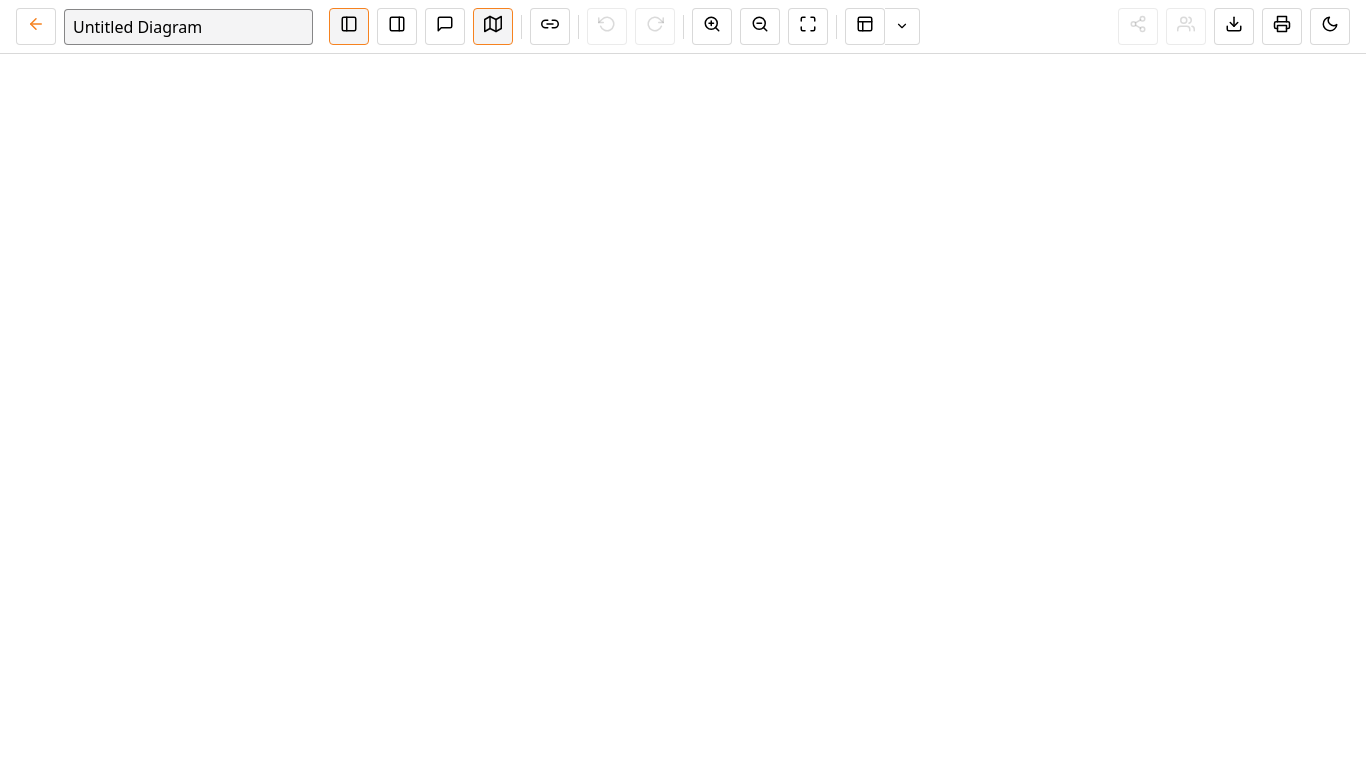
Toolbar › closes the connect nodes dialog via its Cancel control (Bug 8)
The width and height of the screenshot is (1366, 768).
Click the button titled "Connect nodes".
click(550, 26)  # box top-left (530, 8), bottom-right (570, 45)
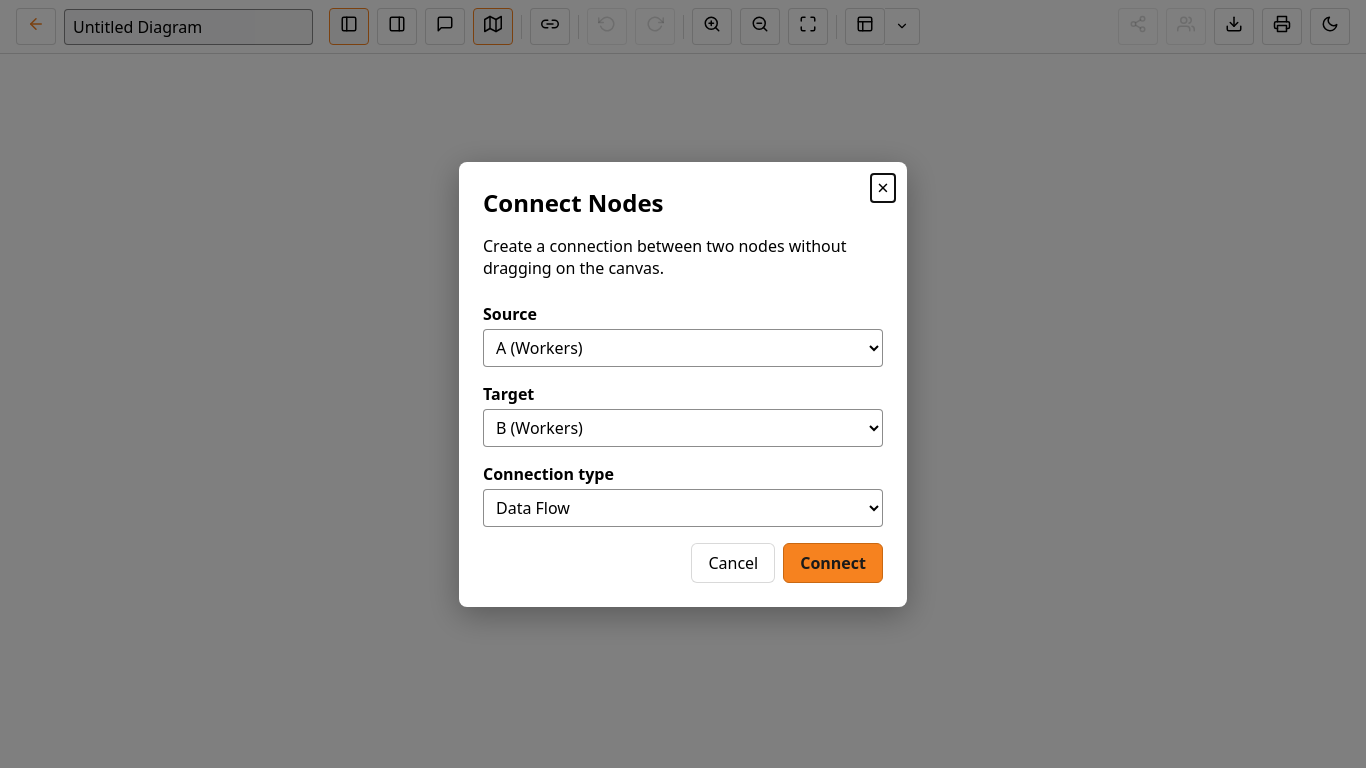
Now the dialog "Connect Nodes" is shown, box top-left (459, 162), bottom-right (907, 606)
Click the button "Cancel".
click(733, 562)  # box top-left (691, 542), bottom-right (775, 582)
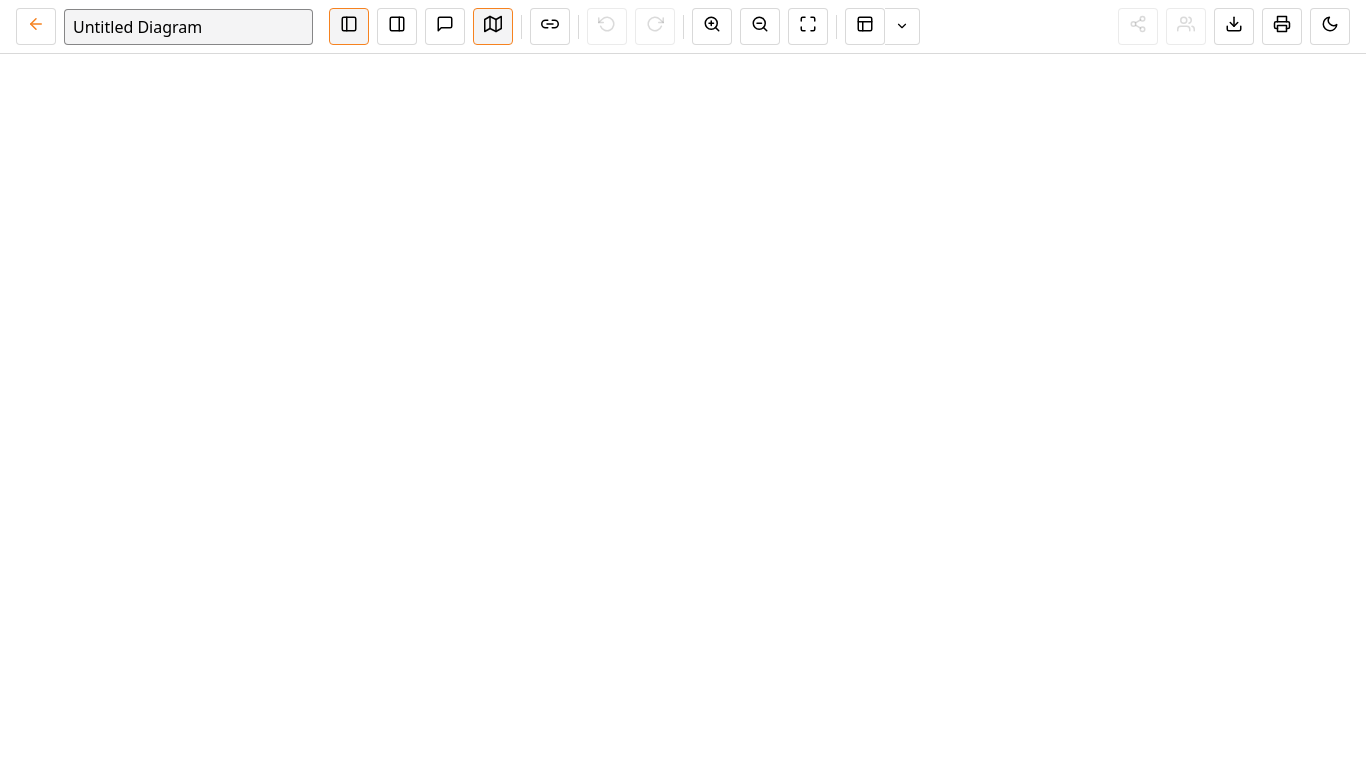
Now the heading "Connect Nodes" is gone
